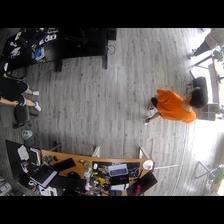normal: (143, 86, 206, 125), (1, 74, 43, 113)
